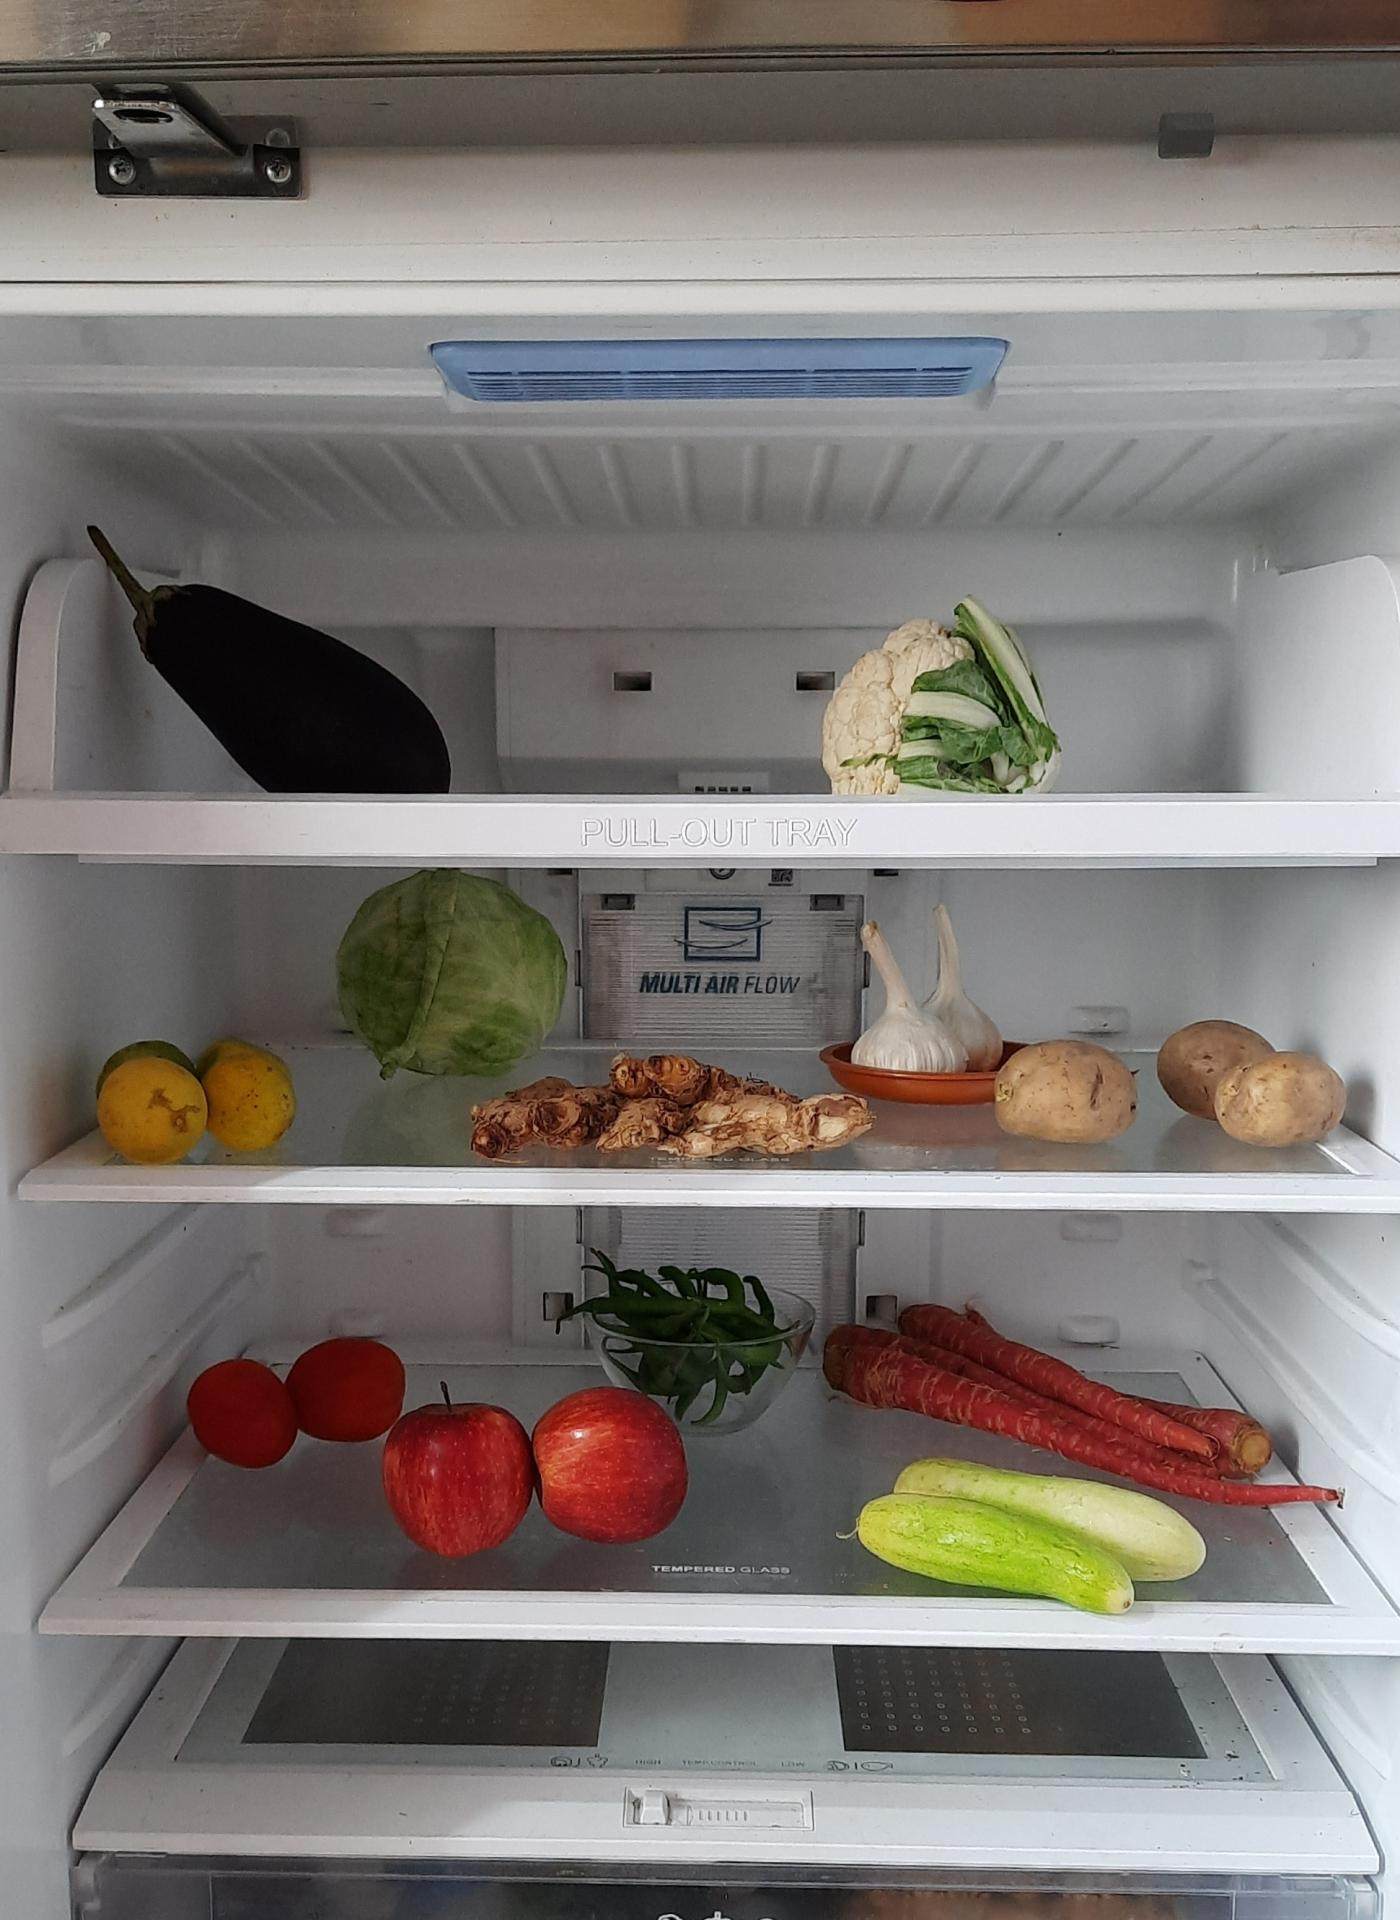apple: (376, 1380, 696, 1570)
brinjal: (89, 514, 470, 802)
cabbage: (340, 865, 576, 1075)
carrots: (820, 1301, 1317, 1520), (1158, 1018, 1354, 1148)
cauliflower: (823, 611, 1039, 792)
chillies: (587, 1249, 789, 1424)
cucumber: (848, 1473, 1230, 1619)
garlic: (853, 897, 1003, 1072)
ginger: (470, 1049, 830, 1151)
lemon: (82, 1024, 307, 1166)
potato: (988, 1039, 1151, 1160)
tomato: (185, 1342, 404, 1468)
